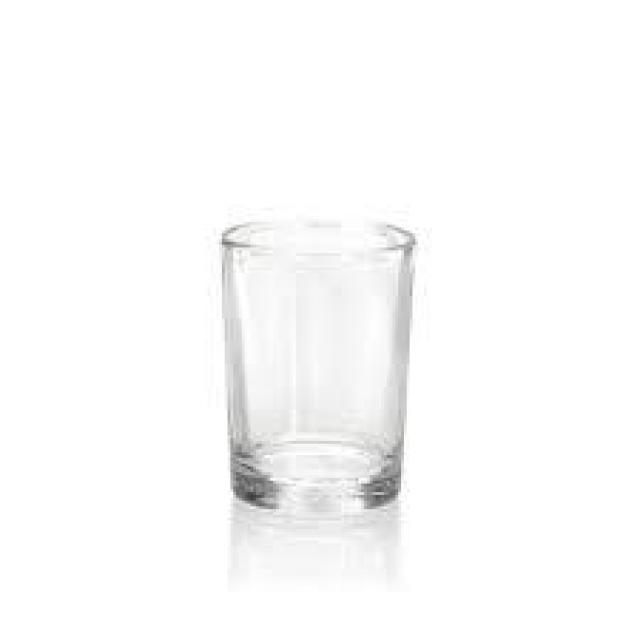Glass: (220, 217, 416, 520)
